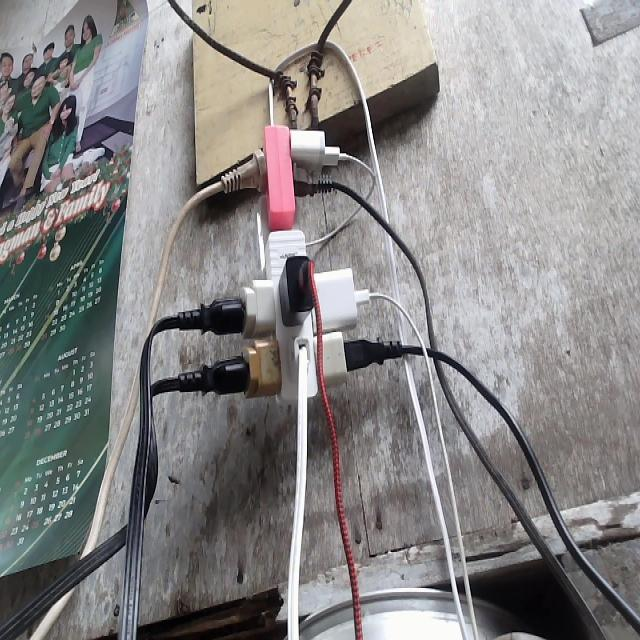-: (160, 123, 410, 401)
